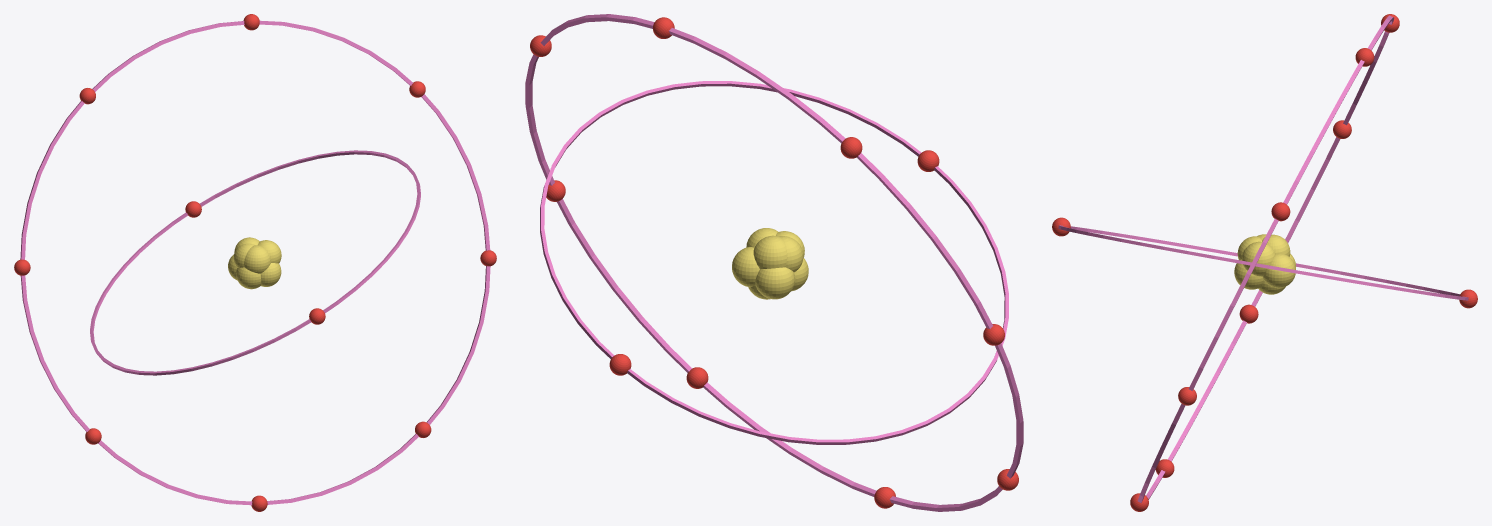
Rendered from BohrModel.glb.
3 views of the same model, side by side, from view 1: azimuth 30°, elevation 25°; view 2: azimuth 150°, elevation 25°; view 3: azimuth 270°, elevation 25° (orthographic). The views are drawn at different scales.
Parts seen in each view (by area): view 1: OrbitMesh, BezierCircle.001, Sphere.008; view 2: OrbitMesh, BezierCircle.001, Sphere.008; view 3: OrbitMesh, BezierCircle.001, Sphere.008.
Boxes of the visible parts, bbox=[...] form: OrbitMesh: bbox=[20, 20, 490, 505]; BezierCircle.001: bbox=[90, 150, 420, 375]; Sphere.008: bbox=[228, 237, 281, 289]; OrbitMesh: bbox=[525, 14, 1023, 511]; BezierCircle.001: bbox=[540, 81, 1008, 444]; Sphere.008: bbox=[732, 228, 808, 299]; OrbitMesh: bbox=[1137, 15, 1394, 502]; BezierCircle.001: bbox=[1058, 225, 1468, 300]; Sphere.008: bbox=[1234, 234, 1296, 294].
Bounding box in the file's own units: 26.24 × 25.08 × 20.48.
